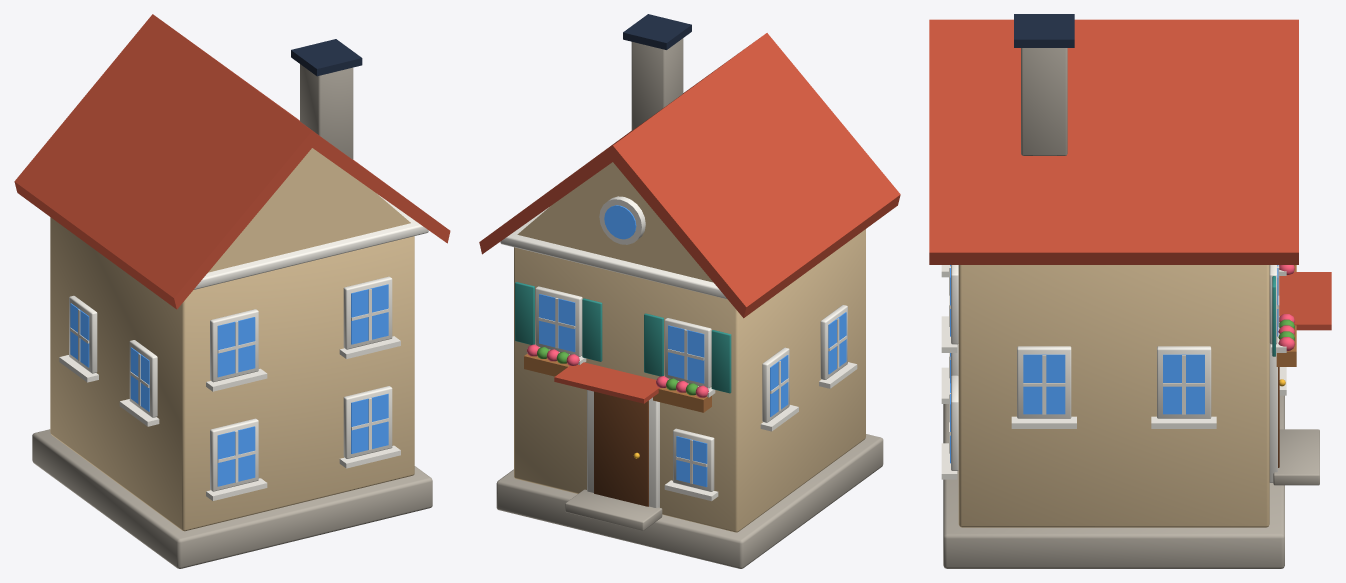
File: haus_a.glb
3 renders of one model, left to right at view 1: azimuth 30°, elevation 25°; view 2: azimuth 150°, elevation 25°; view 3: azimuth 270°, elevation 25°, orthographic. The views are drawn at different scales.
Parts seen in each view (by area): view 1: haus_a_lod0; view 2: haus_a_lod0; view 3: haus_a_lod0.
Boxes of the visible parts, <box> form: haus_a_lod0: <box>14,14,450,568</box>; haus_a_lod0: <box>479,14,900,568</box>; haus_a_lod0: <box>929,14,1331,568</box>.
Size of what is drawn, in the model's own units: 4.76 by 7.21 by 5.18.
